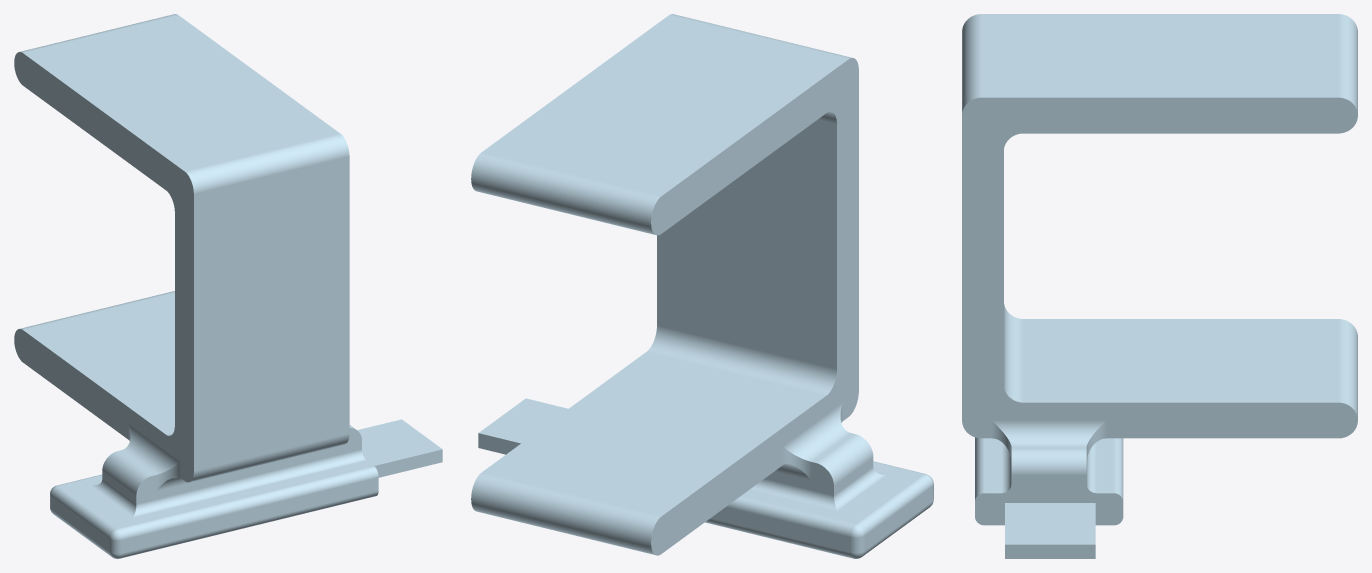
File: C-hook-v1.gltf
3 views of the same model, side by side, from view 1: azimuth 30°, elevation 25°; view 2: azimuth 150°, elevation 25°; view 3: azimuth 270°, elevation 25° (orthographic). The views are drawn at different scales.
Visible parts, largest first — view 1: Part 1; view 2: Part 1; view 3: Part 1.
Part boxes in pixels (x1,y1,x2,y2): Part 1: (14,14,442,558); Part 1: (471,14,933,558); Part 1: (962,14,1357,558).
Bounding box in the file's own units: 0.0559 × 0.0579 × 0.0508.
